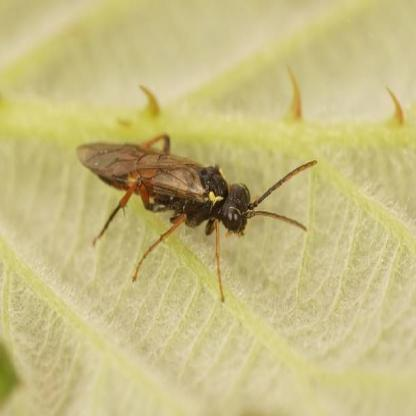sawfly: (69, 120, 321, 307)
